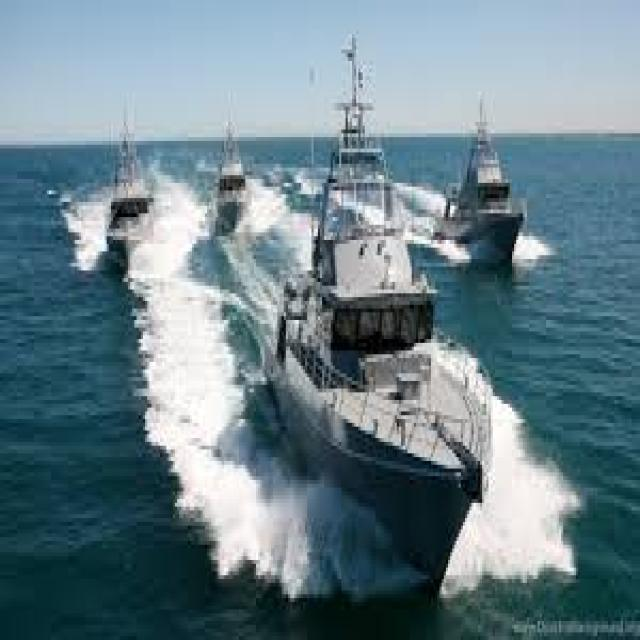houseboat: (266, 37, 491, 583), (434, 112, 524, 264), (101, 114, 154, 265), (211, 108, 249, 236)
